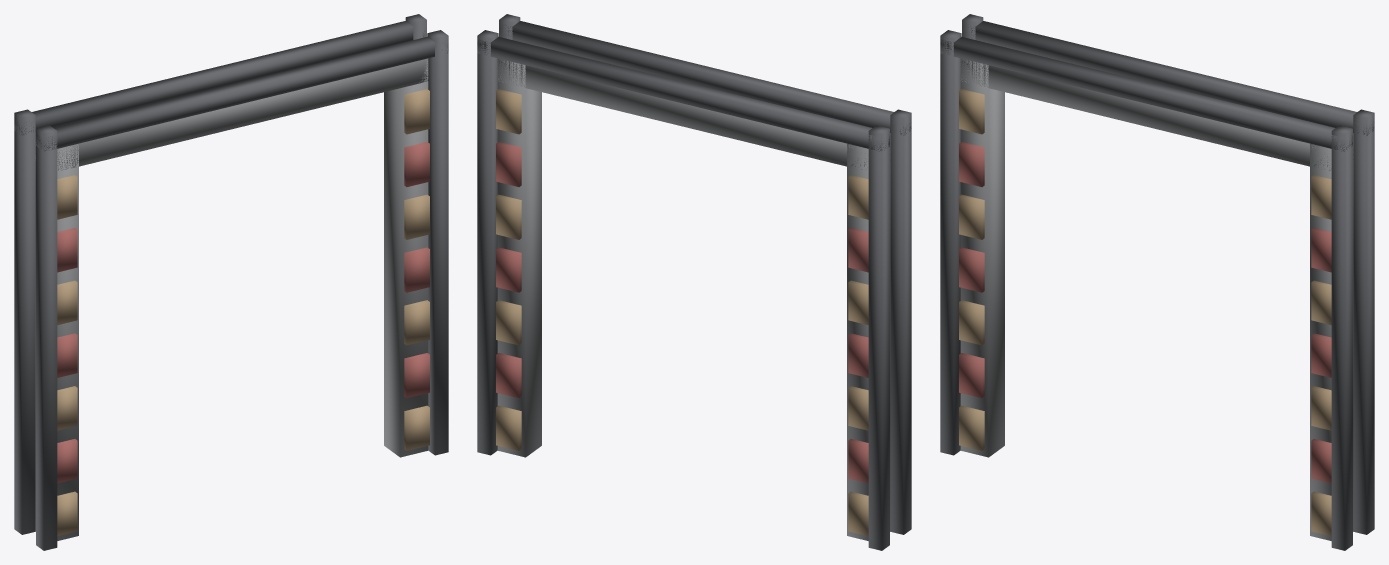
File: doorway_brick_return_w182_h200_d16.glb
3 views of the same model, side by side, from view 1: azimuth 30°, elevation 25°; view 2: azimuth 150°, elevation 25°; view 3: azimuth 330°, elevation 25° (orthographic).
Visible parts, largest first — view 1: world; view 2: world; view 3: world.
Part boxes in pixels (left/top/right/bottom): world: left=14, top=14, right=448, bottom=550; world: left=477, top=14, right=911, bottom=550; world: left=940, top=14, right=1374, bottom=550.
Bounding box in the file's own units: 2.29 × 2.26 × 0.2906.
